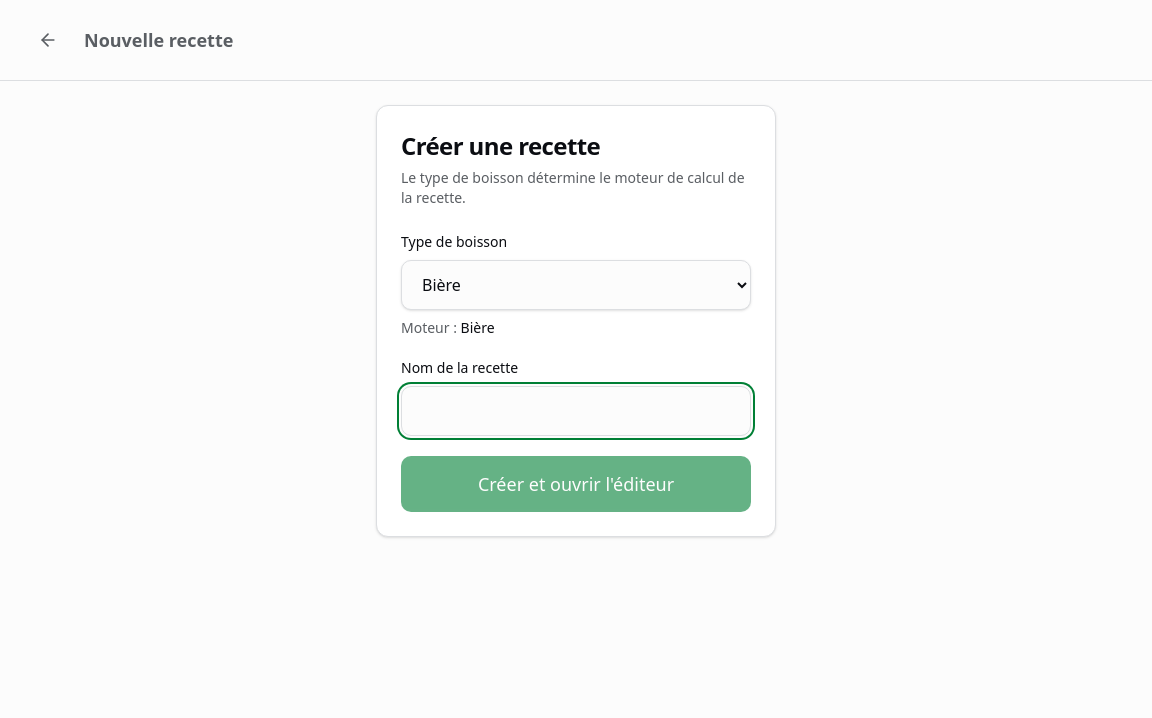
Scenario: création d'une recette › type ginger beer → POST moteur ALT_FERMENTED puis ouverture de l'éditeur
Select "Ginger beer" in the dropdown labelled "Type de boisson" at (576, 285), box [401,260,751,310]
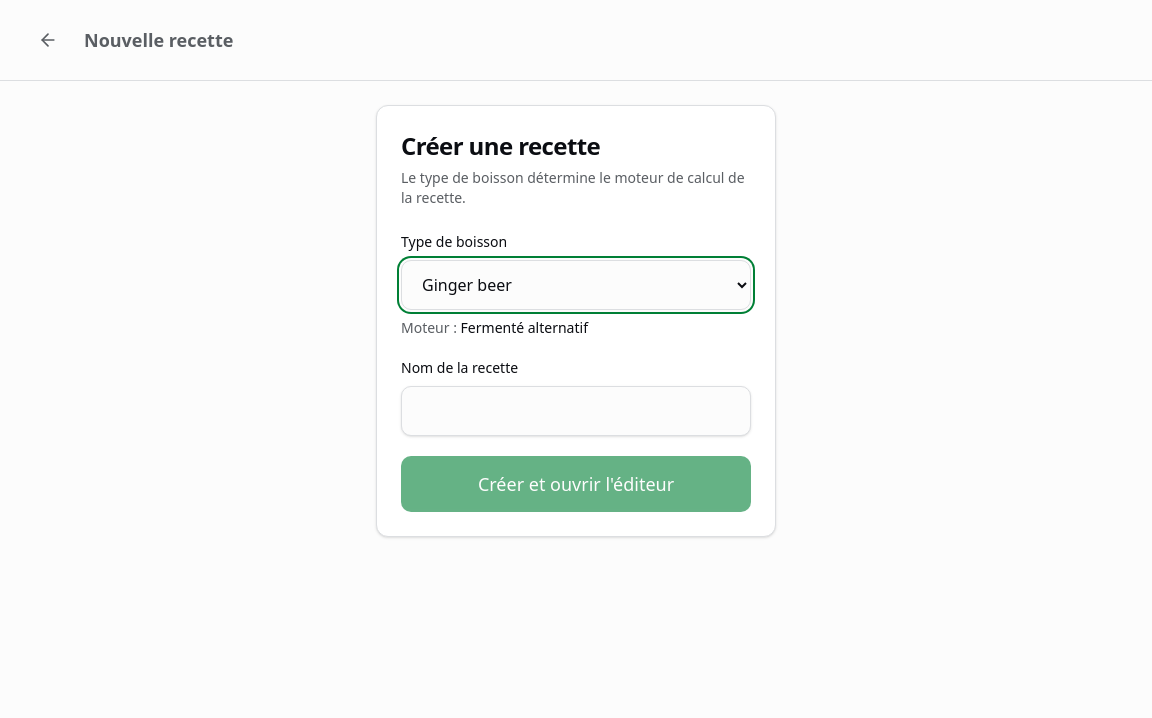
Expected: the text "Fermenté alternatif" is shown, [461,318,588,337]
Type "Ginger du fût" into the field labelled "Nom de la recette" at (576, 411), box [401,386,751,436]
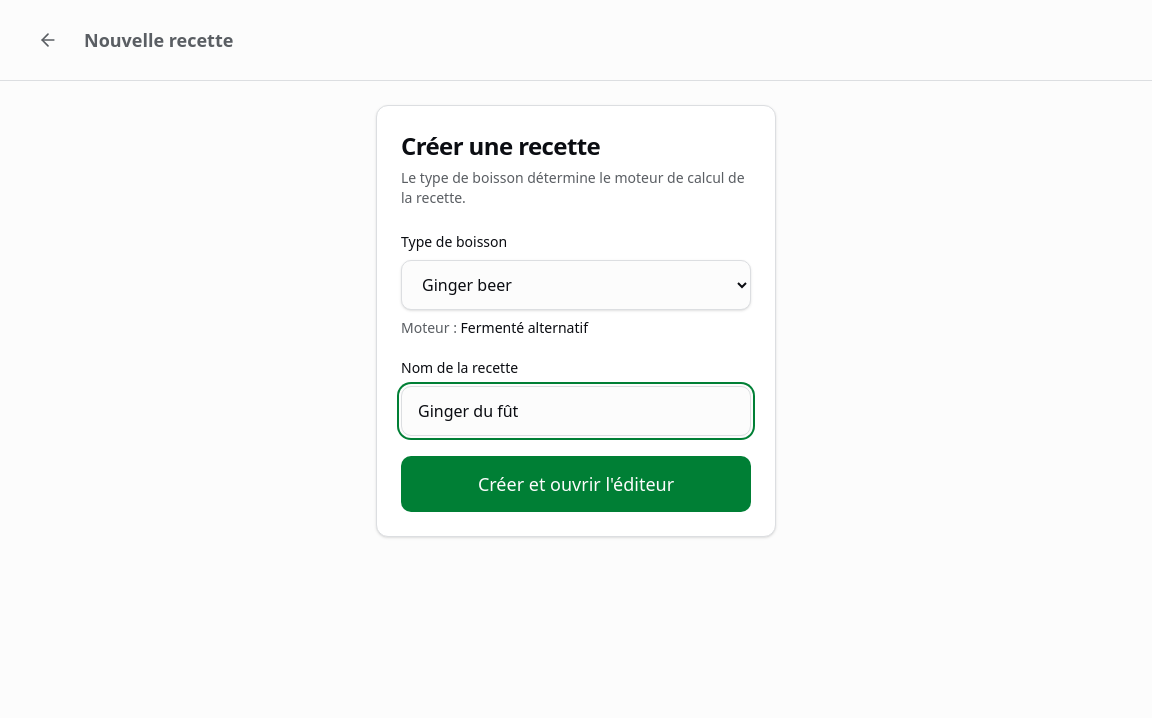
Click the button "Créer et ouvrir l'éditeur" at (576, 484), box [401,456,751,512]
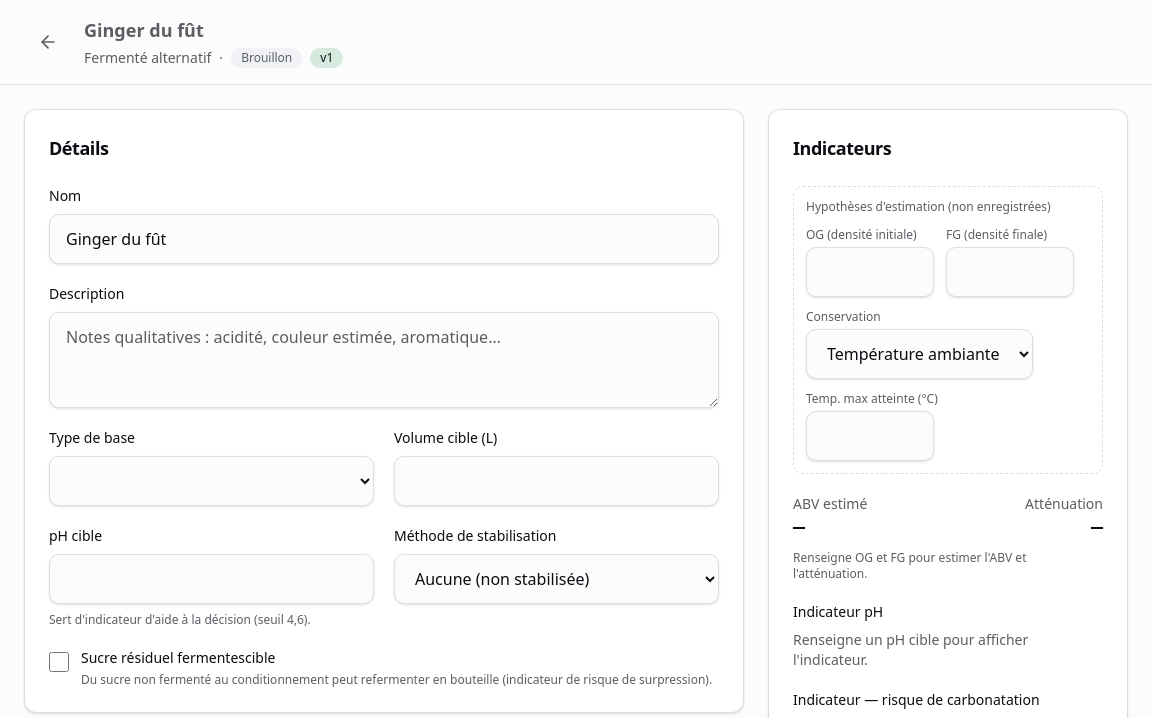
Expected: the heading "Ginger du fût" is shown, [84,18,204,42]
